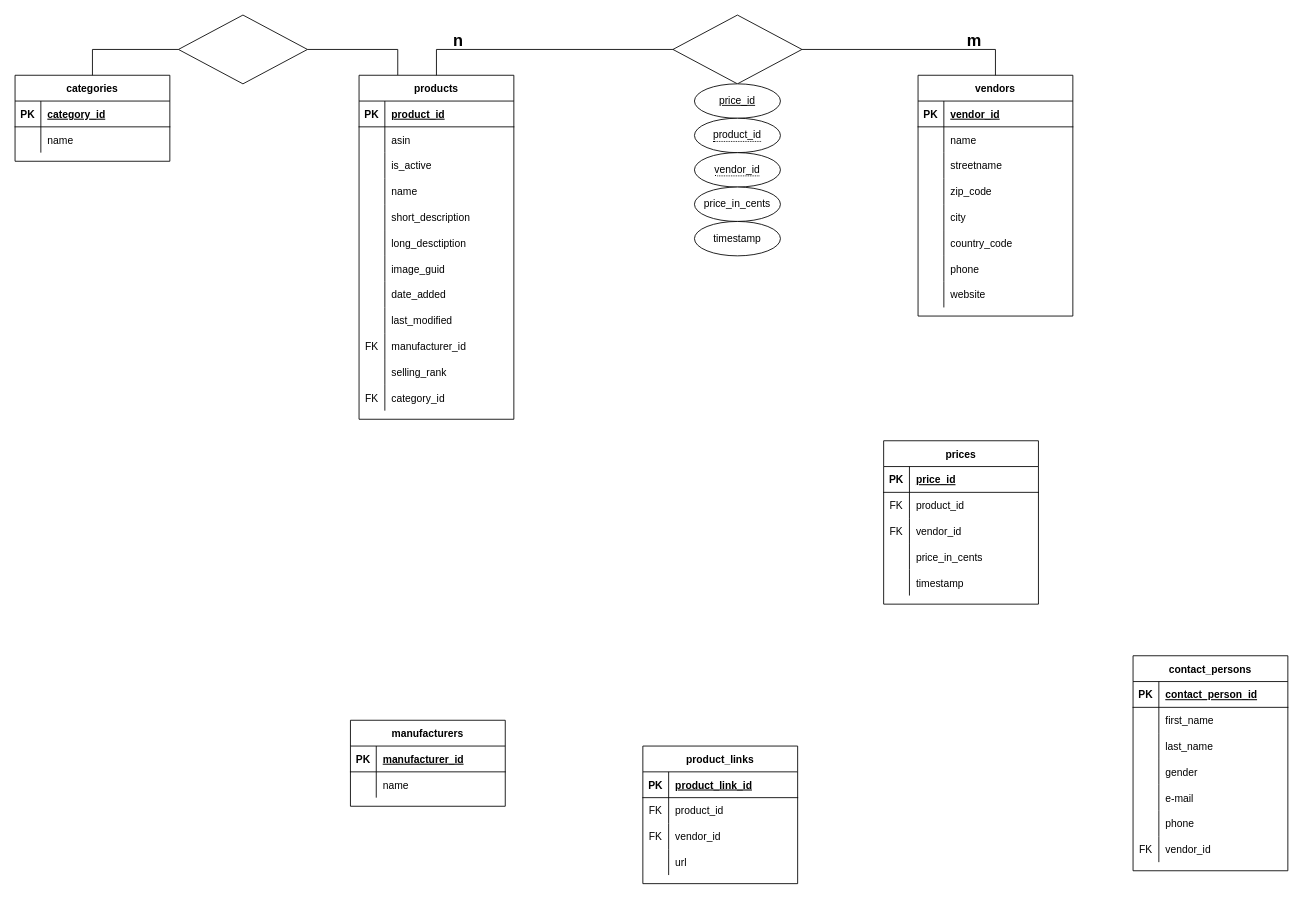
The diagram is 1303 pixels wide and 899 high, and some of its shapes have lost their labels. Each missing label, with the centre of its shape:
"belongs to category" belongs at (242,49).
"has price at vendor" belongs at (737,49).
